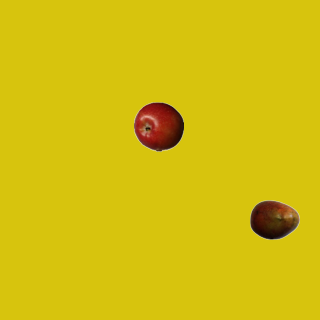Apple Braeburn: (133, 101, 183, 151)
Mango Red: (249, 194, 299, 244)
